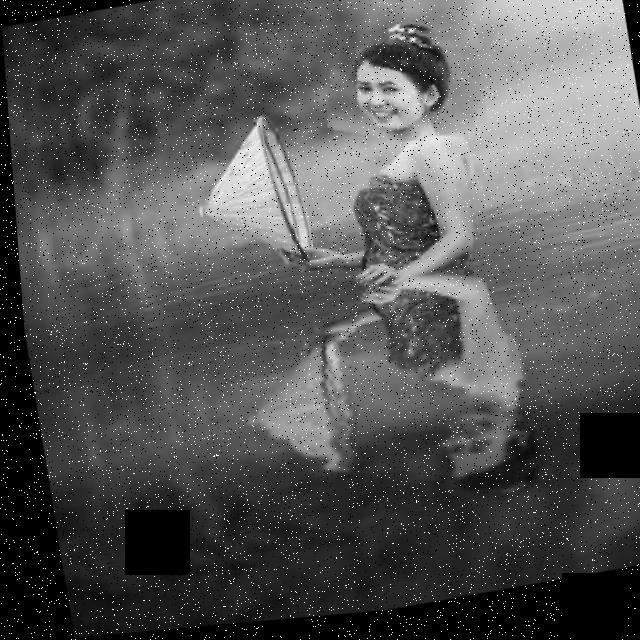happy: (316, 19, 491, 160)
